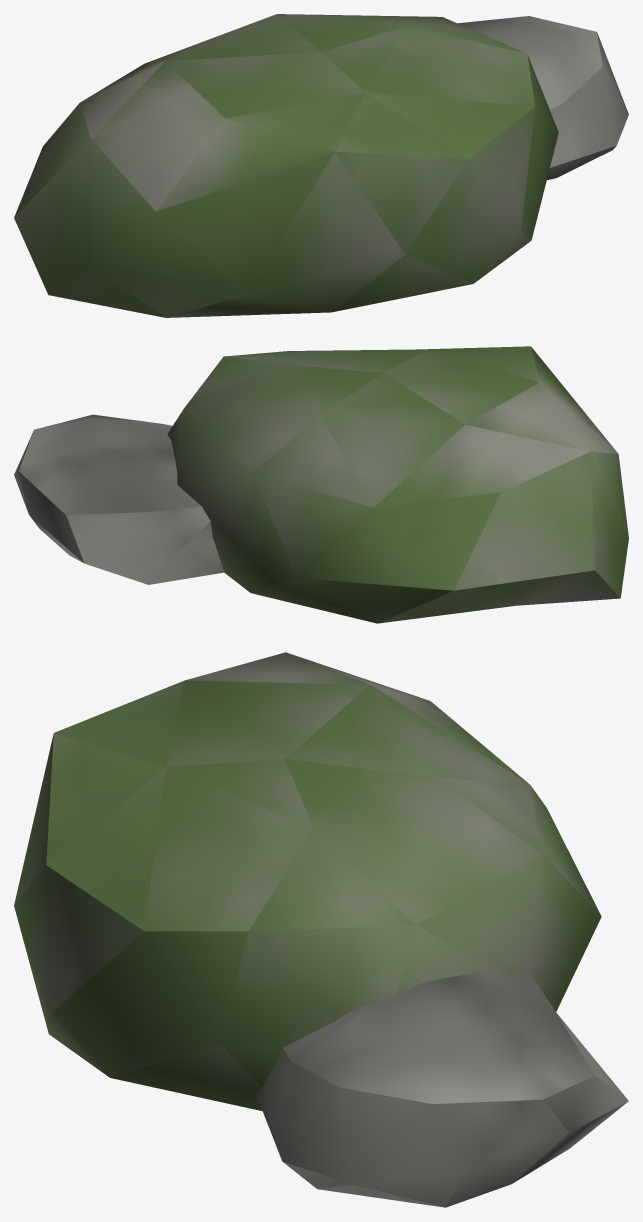
File: SM_Rock_Small02.fbx
The picture shows the model from 3 angles, top to bottom: view 1: azimuth 30°, elevation 25°; view 2: azimuth 150°, elevation 25°; view 3: azimuth 270°, elevation 25°; orthographic projection. The views are drawn at different scales.
Parts seen in each view (by area): view 1: SM_Rock_Small02; view 2: SM_Rock_Small02; view 3: SM_Rock_Small02.
Boxes of the visible parts, x1,y1,x2,y2 form: SM_Rock_Small02: [14, 14, 628, 317]; SM_Rock_Small02: [14, 346, 628, 623]; SM_Rock_Small02: [14, 652, 628, 1207].
Bounding box in the file's own units: 2.53 × 0.7175 × 1.69.
Materials: 1 (1 with a texture image).
